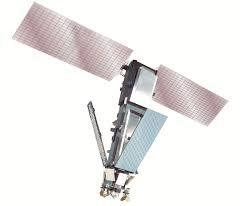body: (97, 57, 160, 203)
solar: (10, 0, 137, 85), (149, 61, 233, 129), (113, 106, 170, 176), (85, 98, 111, 166)
